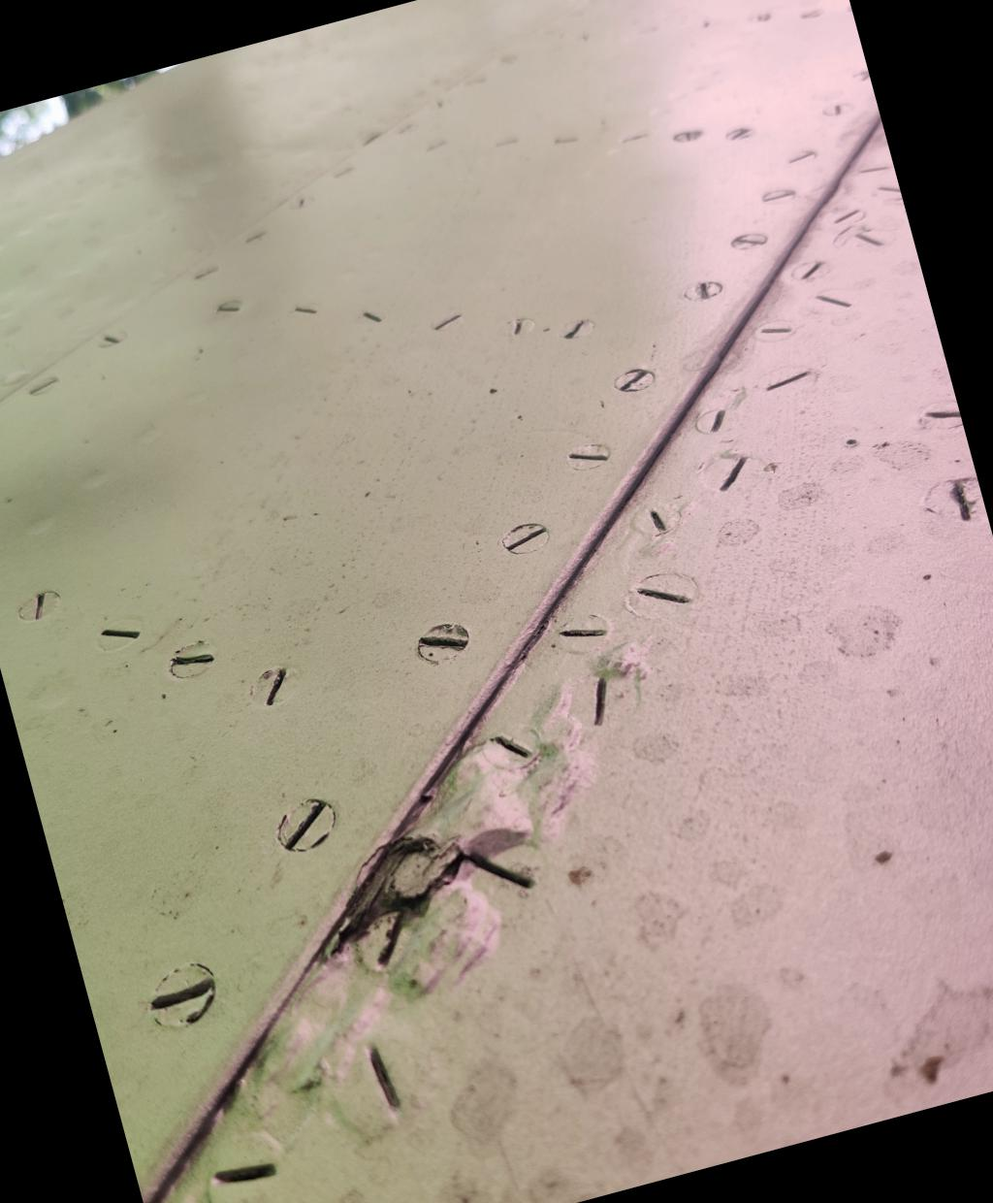corrosion: (300, 810, 539, 1002)
